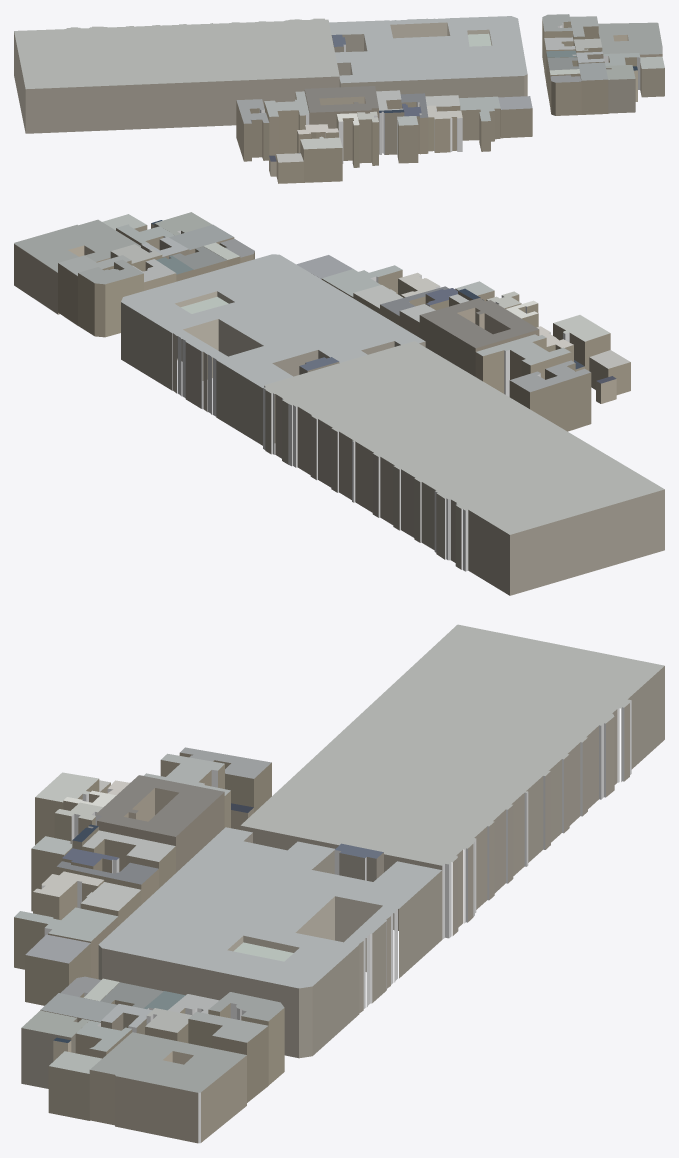
The picture shows the model from 3 angles, top to bottom: view 1: azimuth 30°, elevation 25°; view 2: azimuth 150°, elevation 25°; view 3: azimuth 270°, elevation 25°; orthographic projection. The views are drawn at different scales.
Parts seen in each view (by area): view 1: tuile; view 2: tuile; view 3: tuile.
Boxes of the visible parts, <box> form: tuile: <box>14,14,664,183</box>; tuile: <box>14,212,664,595</box>; tuile: <box>14,624,664,1143</box>.
Size of the model in its own units: 352 by 28.41 by 216.
